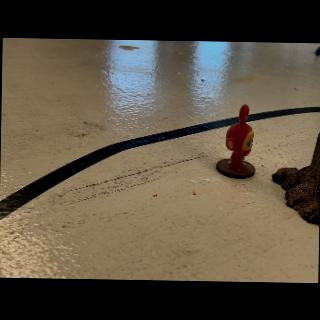teletubby: (225, 104, 253, 170)
